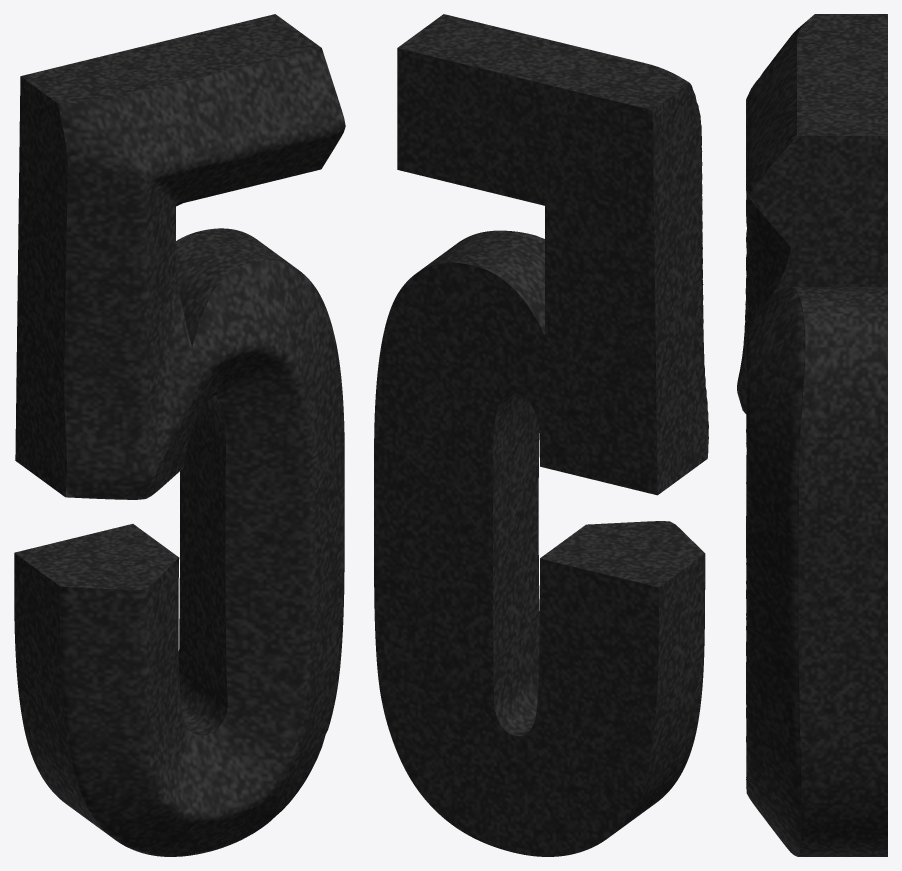
File: digit-5.glb
The picture shows the model from 3 angles, left to right: view 1: azimuth 30°, elevation 25°; view 2: azimuth 150°, elevation 25°; view 3: azimuth 270°, elevation 25°; orthographic projection. The views are drawn at different scales.
Parts seen in each view (by area): view 1: Glyph 5; view 2: Glyph 5; view 3: Glyph 5.
Part boxes in pixels (<box>): Glyph 5: <box>14,14,345,856</box>; Glyph 5: <box>374,14,708,856</box>; Glyph 5: <box>737,14,887,856</box>.
Size of the model in its own units: 1.43 by 3.71 by 0.6682.
Materials: 1 (1 with a texture image).
